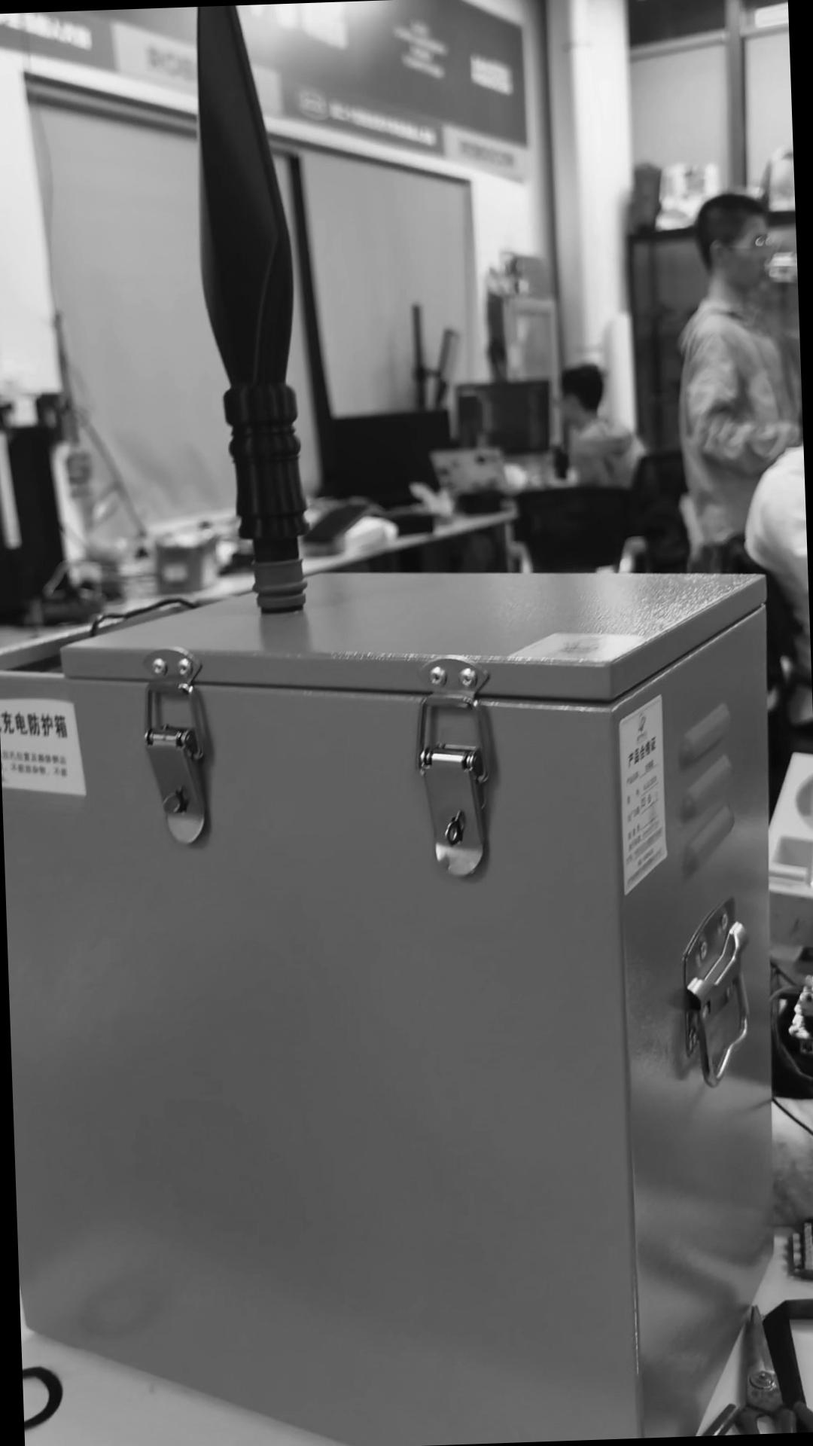base: (250, 556, 310, 616)
